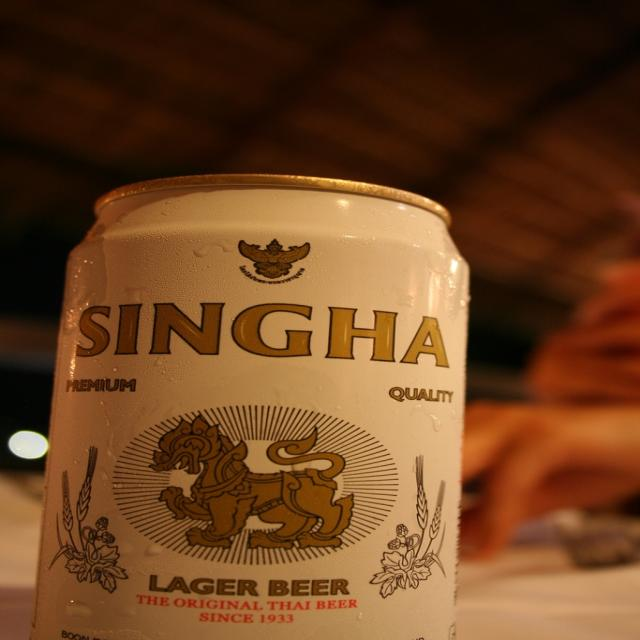singha: (48, 294, 461, 614)
